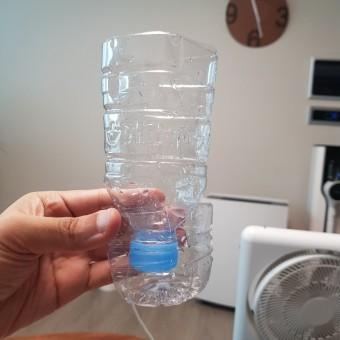bottle: (103, 31, 219, 306)
